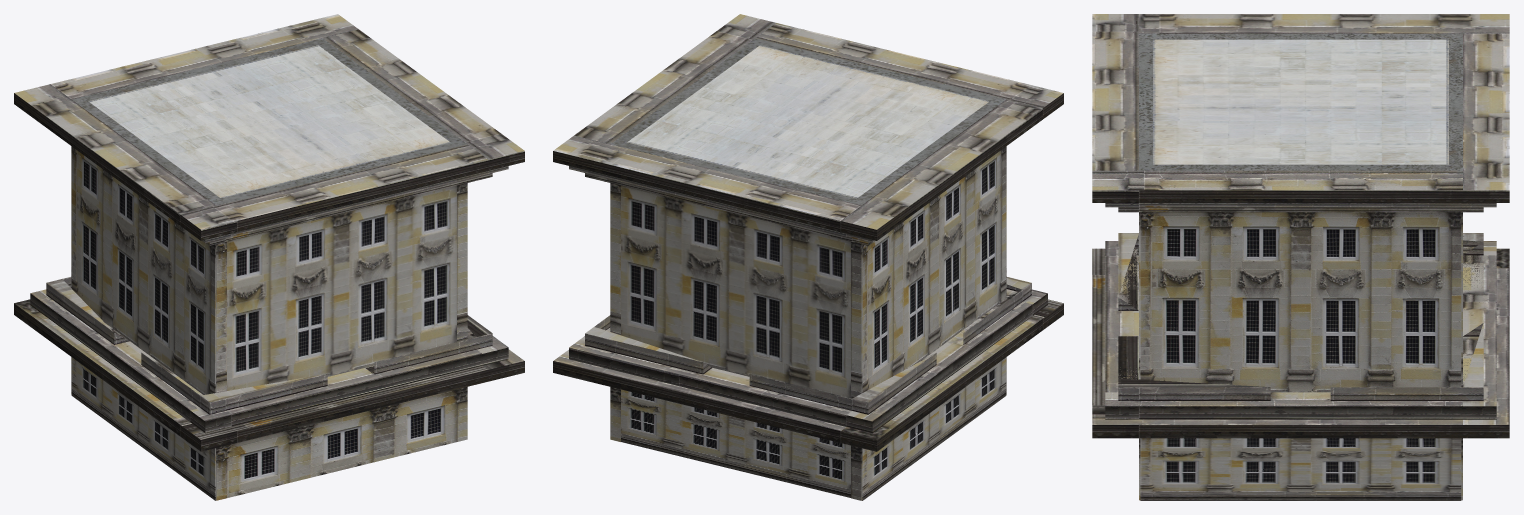
Rendered from BagBuilding5_0.fbx.
3 renders of one model, left to right at view 1: azimuth 30°, elevation 25°; view 2: azimuth 150°, elevation 25°; view 3: azimuth 270°, elevation 25°, orthographic. The views are drawn at different scales.
Visible parts, largest first — view 1: main0, Box0, roof0, roofrim0, BoxA0; view 2: main0, Box0, roof0, BoxA0, roofrim0; view 3: main0, Box0, roof0, BoxA0, roofrim0.
Boxes of the visible parts, x1,y1,x2,y2 form: main0: [14, 14, 524, 500]; Box0: [71, 146, 456, 394]; roof0: [88, 45, 450, 198]; roofrim0: [71, 38, 466, 205]; BoxA0: [71, 357, 215, 500]; main0: [553, 14, 1063, 500]; Box0: [621, 146, 1006, 398]; roof0: [627, 45, 989, 198]; BoxA0: [621, 357, 1006, 500]; roofrim0: [611, 38, 1006, 205]; main0: [1092, 14, 1509, 500]; Box0: [1140, 212, 1461, 392]; roof0: [1153, 39, 1448, 164]; BoxA0: [1140, 438, 1461, 500]; roofrim0: [1139, 33, 1462, 170].
Size of the model in its own units: 18.94 by 16.53 by 18.94.
